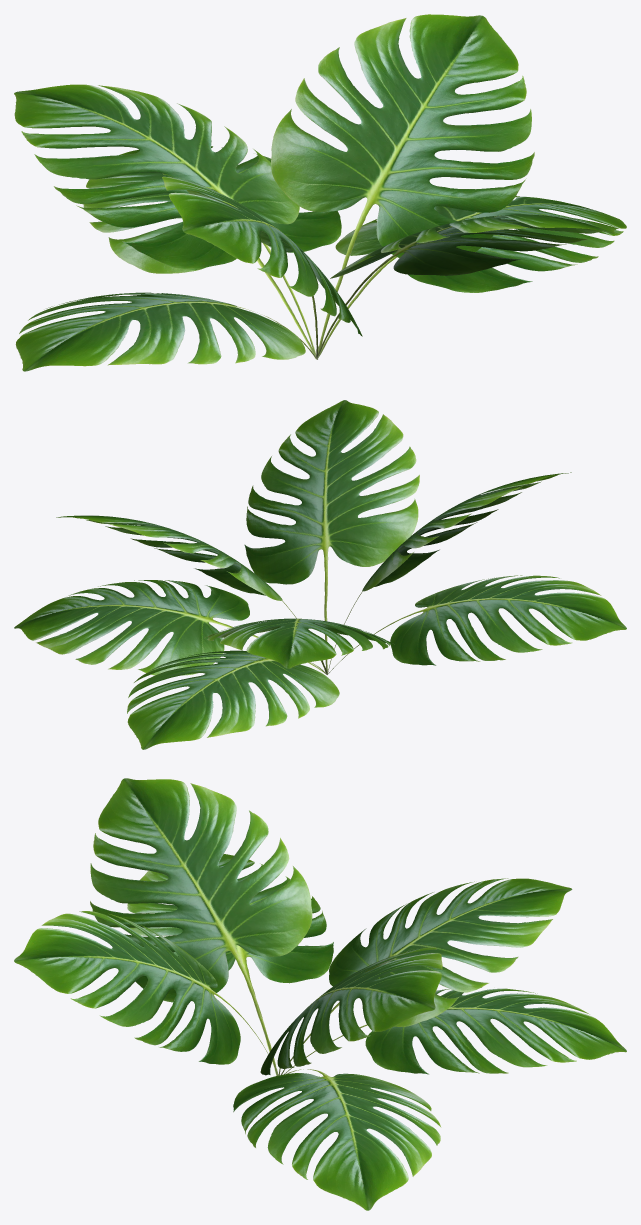
Rendered from Palm_Leaf1.glb.
3 renders of one model, top to bottom at view 1: azimuth 30°, elevation 25°; view 2: azimuth 150°, elevation 25°; view 3: azimuth 270°, elevation 25°, orthographic. The views are drawn at different scales.
Parts seen in each view (by area): view 1: G-Object.007, G-Object.004, G-Object.006, G-Object.002, G-Object.001, G-Object.003, G-Object.005; view 2: G-Object.002, G-Object.003, G-Object.006, G-Object.005, G-Object.004, G-Object.001, G-Object.007; view 3: G-Object.001, G-Object.002, G-Object.003, G-Object.004, G-Object.005, G-Object.007, G-Object.006.
Boxes of the visible parts, x1,y1,x2,y2 form: G-Object.007: [271, 14, 534, 359]; G-Object.004: [14, 84, 316, 355]; G-Object.006: [15, 292, 317, 371]; G-Object.002: [316, 214, 618, 357]; G-Object.001: [162, 173, 362, 358]; G-Object.003: [317, 196, 626, 358]; G-Object.005: [83, 146, 341, 359]; G-Object.002: [244, 400, 419, 673]; G-Object.003: [14, 580, 324, 675]; G-Object.006: [328, 575, 626, 673]; G-Object.005: [127, 650, 339, 749]; G-Object.004: [204, 618, 393, 674]; G-Object.001: [327, 472, 571, 672]; G-Object.007: [56, 515, 327, 674]; G-Object.001: [90, 778, 312, 1075]; G-Object.002: [14, 911, 277, 1074]; G-Object.003: [233, 1069, 441, 1210]; G-Object.004: [281, 878, 572, 1074]; G-Object.005: [284, 987, 626, 1074]; G-Object.007: [260, 946, 442, 1075]; G-Object.006: [127, 854, 333, 1075].
Bounding box in the file's own units: 7.77 × 2.75 × 7.12.
Materials: 1 (1 with a texture image).
